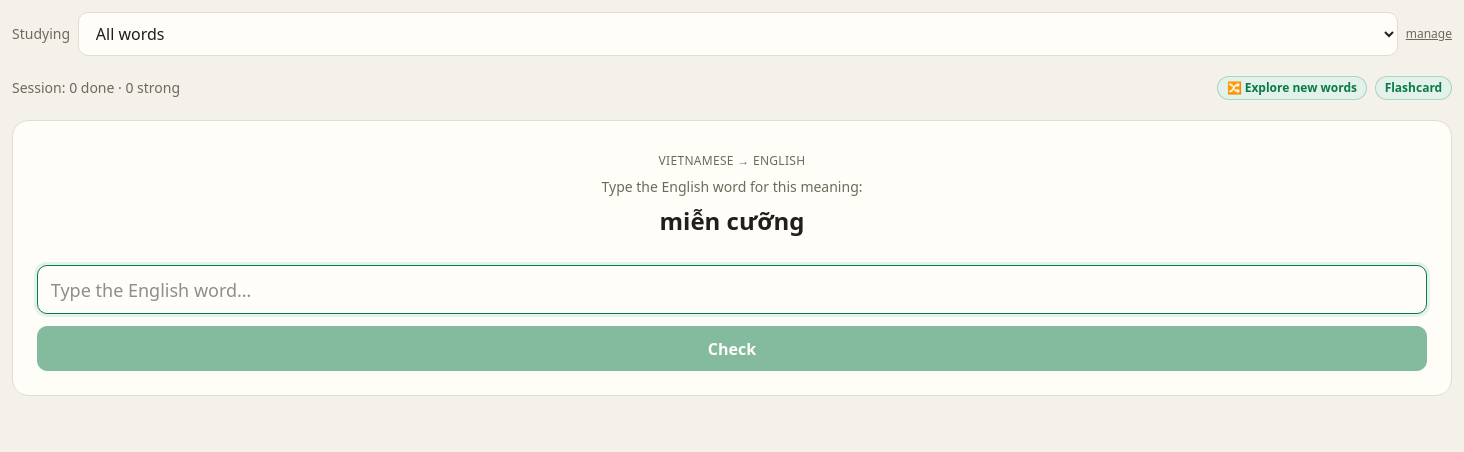
Scenario: PracticePage — Enter-to-submit shows the verdict and does not auto-advance › flashcard: a single Enter shows feedback and stays
Type "reluctant" into the field with placeholder "Type the English word…" at point(732, 290), box [37,265,1427,314]
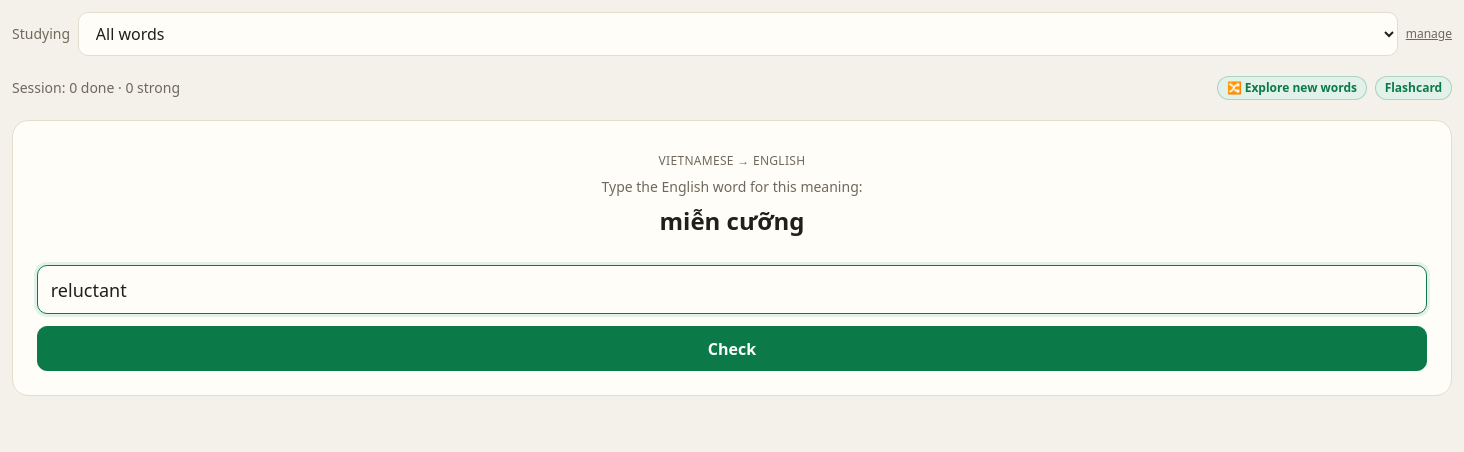
Press Enter in the field with placeholder "Type the English word…", box [37,265,1427,314]
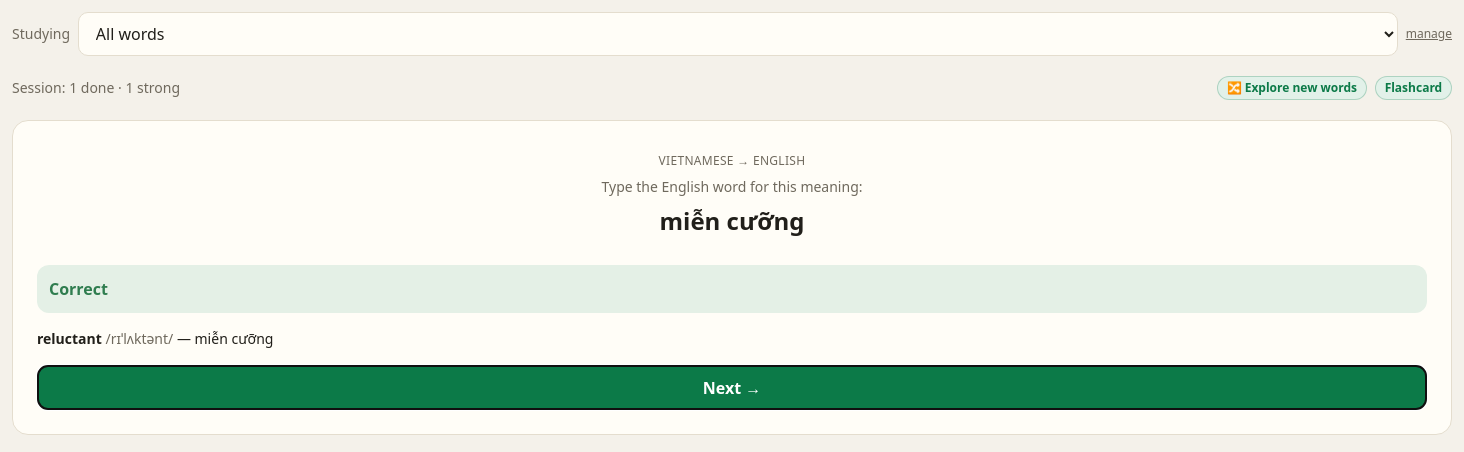
Now the text "Correct" is shown, box [49,277,108,301]
Now the button "Next →" is shown, box [37,365,1427,410]
